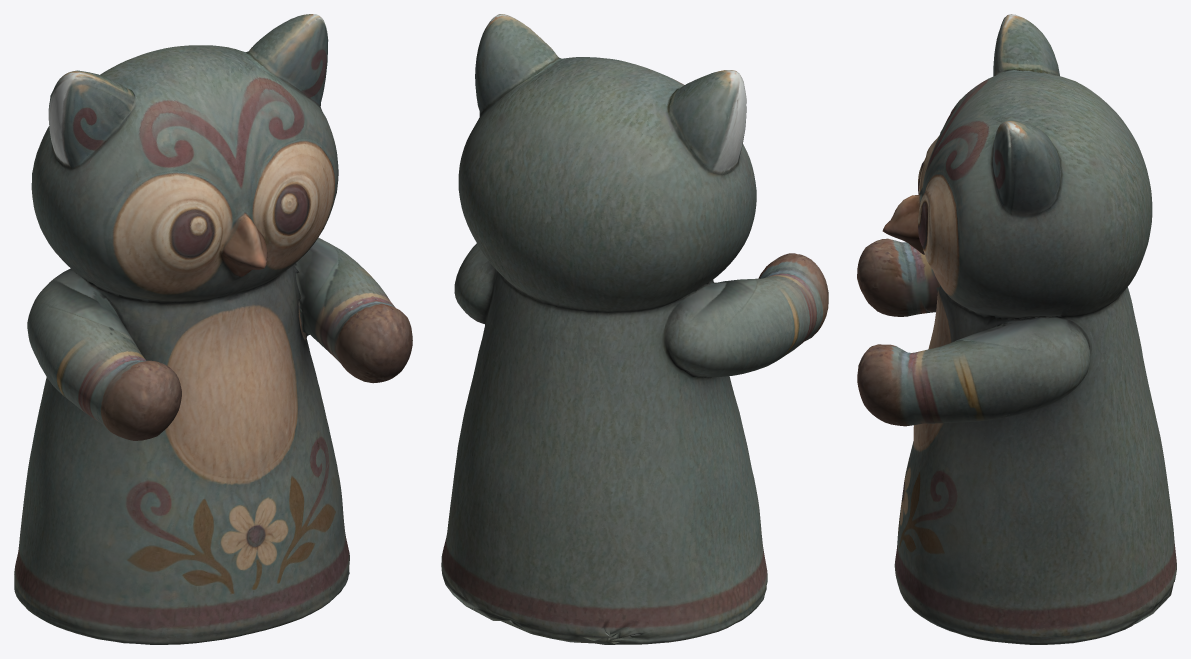
File: Prop_PuppetOwlBook.fbx
3 views of the same model, side by side, from view 1: azimuth 30°, elevation 25°; view 2: azimuth 150°, elevation 25°; view 3: azimuth 270°, elevation 25° (orthographic). The views are drawn at different scales.
Parts seen in each view (by area): view 1: texture_mapping; view 2: texture_mapping; view 3: texture_mapping.
Part boxes in pixels (x1,y1,x2,y2): texture_mapping: (14, 14, 412, 644); texture_mapping: (441, 14, 828, 644); texture_mapping: (857, 14, 1176, 644).
Size of the model in its own units: 0.6115 by 0.5649 by 0.9989.
Materials: 1 (1 with a texture image).
